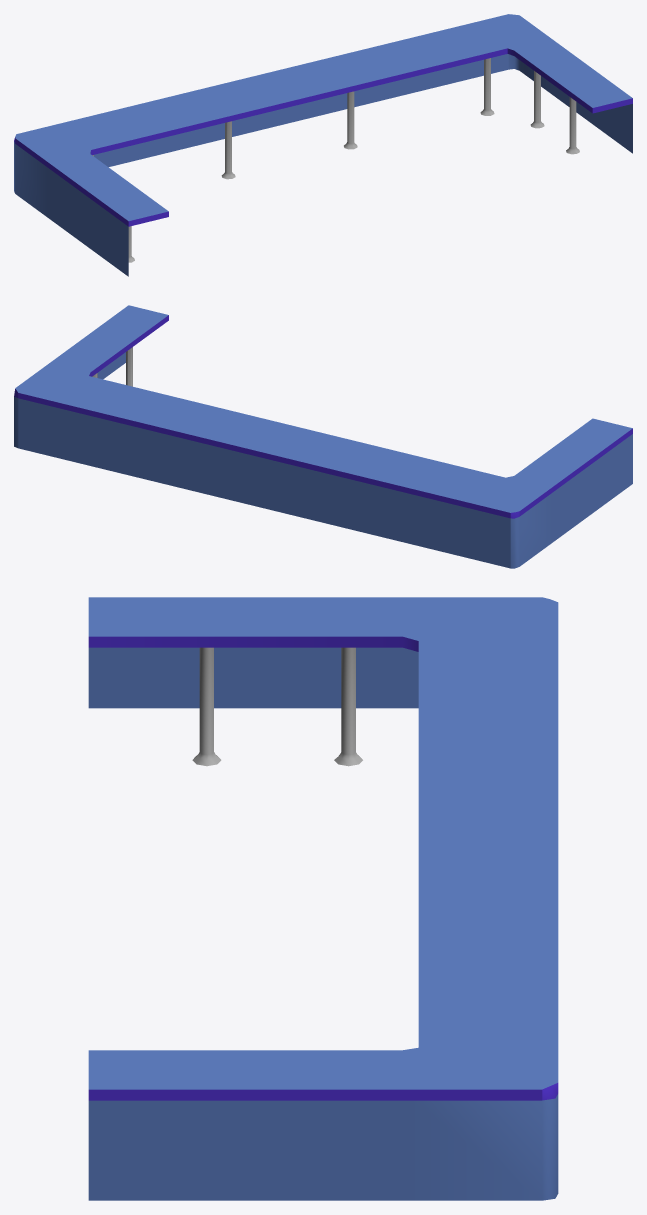
Rendered from table_1.fbx.
3 views of the same model, one above another, from view 1: azimuth 30°, elevation 25°; view 2: azimuth 150°, elevation 25°; view 3: azimuth 270°, elevation 25° (orthographic). The views are drawn at different scales.
Parts seen in each view (by area): view 1: table_1; view 2: table_1; view 3: table_1.
Boxes of the visible parts, x1=… form: table_1: x1=14, y1=14, x2=632, y2=276; table_1: x1=14, y1=305, x2=632, y2=568; table_1: x1=88, y1=597, x2=558, y2=1200.
Bounding box in the file's own units: 854 × 109 × 344.
